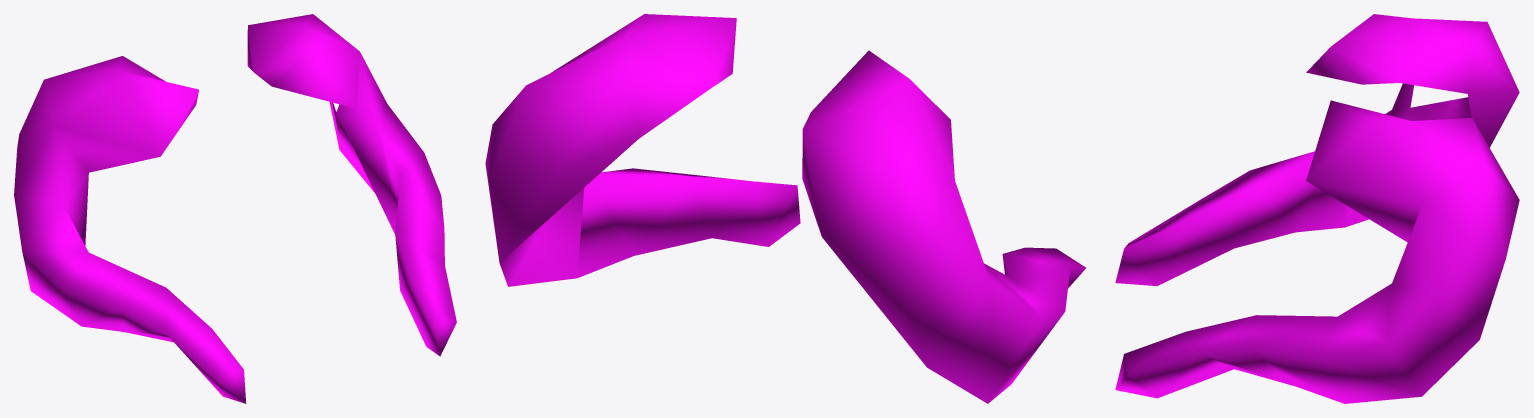
Rendered from kush_ram_statue_horns.glb.
The picture shows the model from 3 angles, left to right: view 1: azimuth 30°, elevation 25°; view 2: azimuth 150°, elevation 25°; view 3: azimuth 270°, elevation 25°; orthographic projection. The views are drawn at different scales.
Parts seen in each view (by area): view 1: Cube_009-mesh; view 2: Cube_009-mesh; view 3: Cube_009-mesh.
Boxes of the visible parts, x1,y1,x2,y2 form: Cube_009-mesh: (14,14,456,403); Cube_009-mesh: (485,14,1085,403); Cube_009-mesh: (1115,14,1519,403).
Size of the model in its own units: 0.854 by 0.4928 by 0.658.
